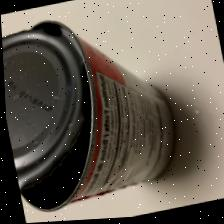metal: (0, 0, 189, 224)
